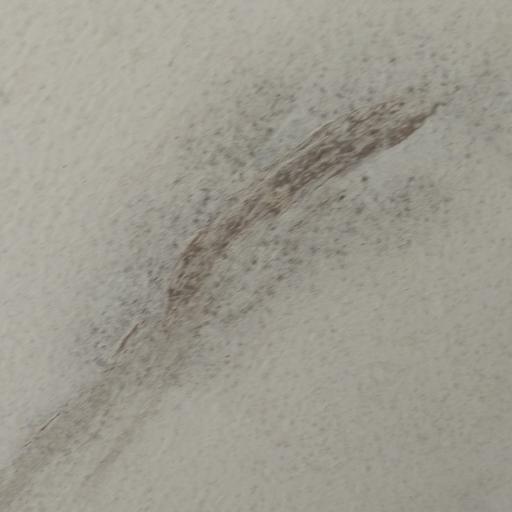stain: (7, 60, 480, 512)
